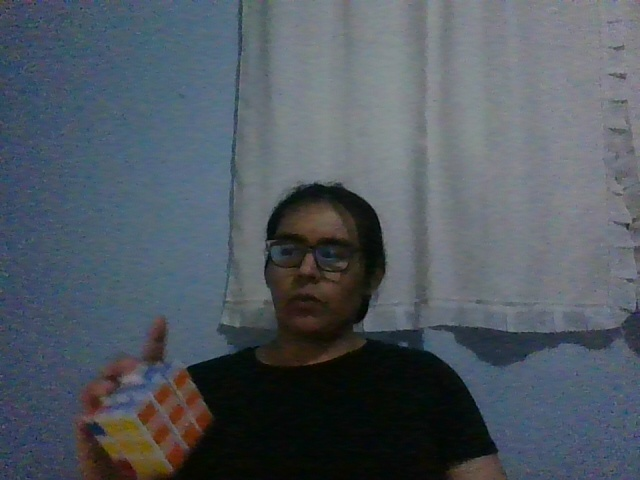rubik: (81, 360, 215, 480)
